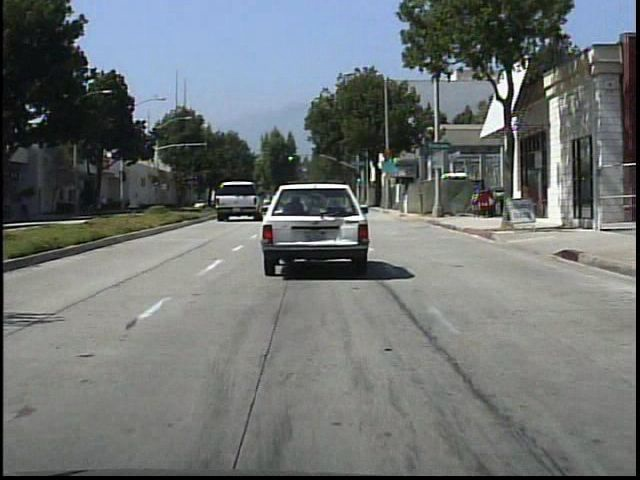person: (19, 195, 38, 226)
